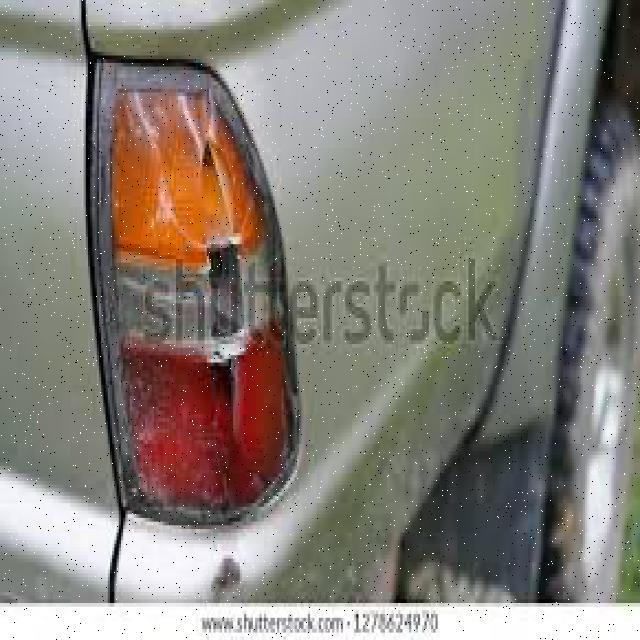Taillight-Damage: (84, 37, 315, 588)
